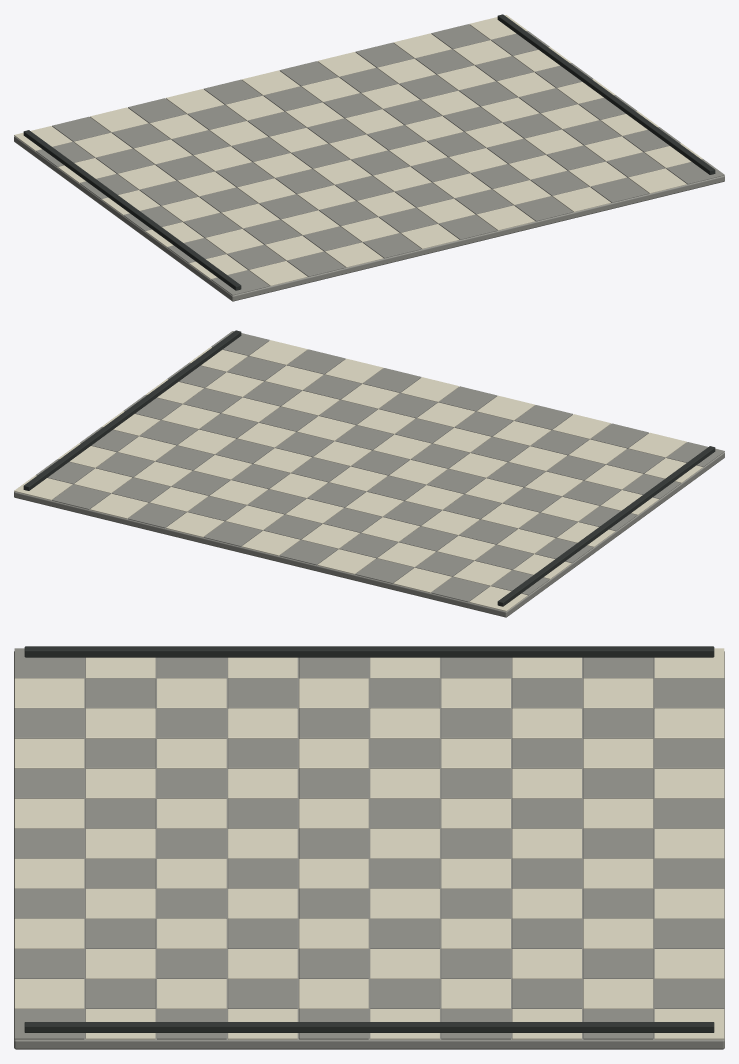
The model's file is abandoned-telephone-exchange-exchange-floor-base-b16e93a4__32021.glb.
3 renders of one model, top to bottom at view 1: azimuth 30°, elevation 25°; view 2: azimuth 150°, elevation 25°; view 3: azimuth 270°, elevation 25°, orthographic. The views are drawn at different scales.
Visible parts, largest first — view 1: exchange-floor-base; view 2: exchange-floor-base; view 3: exchange-floor-base.
Boxes of the visible parts, x1,y1,x2,y2 form: exchange-floor-base: (14,14,724,301); exchange-floor-base: (14,330,724,617); exchange-floor-base: (14,646,724,1049).
Bounding box in the file's own units: 13 × 0.2921 × 10.
